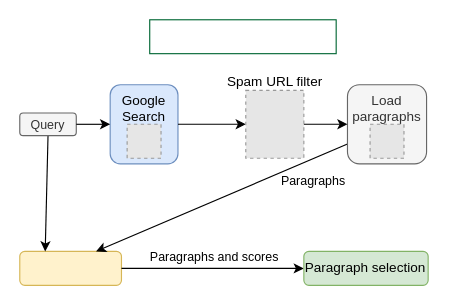
Image size: 449x305. Some labels were removed from this diagram. Grey dashed boxes stand in for pictures. Here are the shapes that lost their labels. From the top down, the centre of each, then its label:
At point (242, 36): "Result Filter module".
At point (70, 267): "Ranking model".
